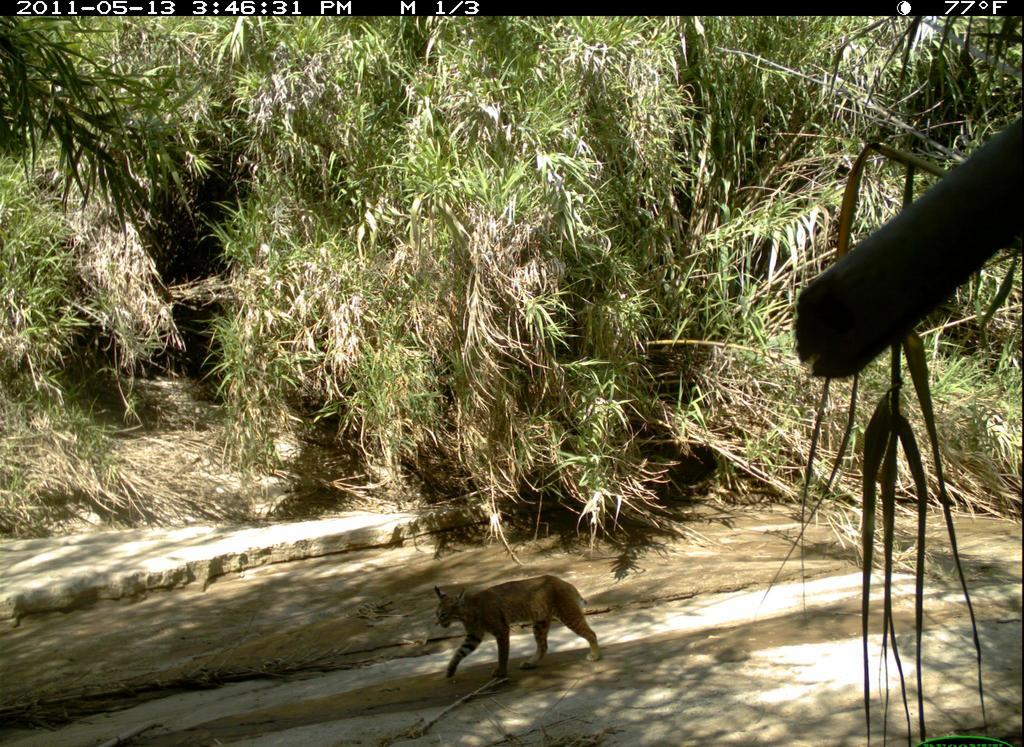bobcat: (429, 571, 626, 699)
